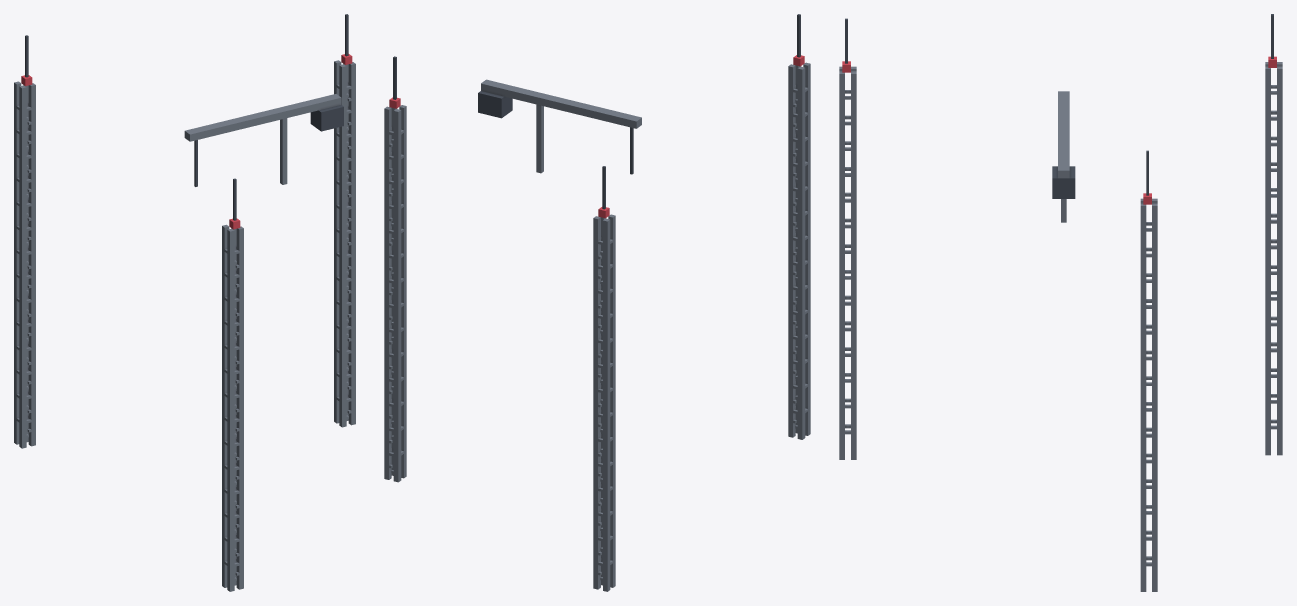
File: pad_e2_l3.glb
The picture shows the model from 3 angles, left to right: view 1: azimuth 30°, elevation 25°; view 2: azimuth 150°, elevation 25°; view 3: azimuth 270°, elevation 25°; orthographic projection. The views are drawn at different scales.
Visible parts, largest first — view 1: Base; view 2: Base; view 3: Base.
Boxes of the visible parts, box(x1,y1,x2,y2) form: Base: box(14, 14, 355, 591); Base: box(384, 14, 810, 591); Base: box(839, 14, 1282, 591).
Size of the model in its own units: 12 by 17 by 15.6.
